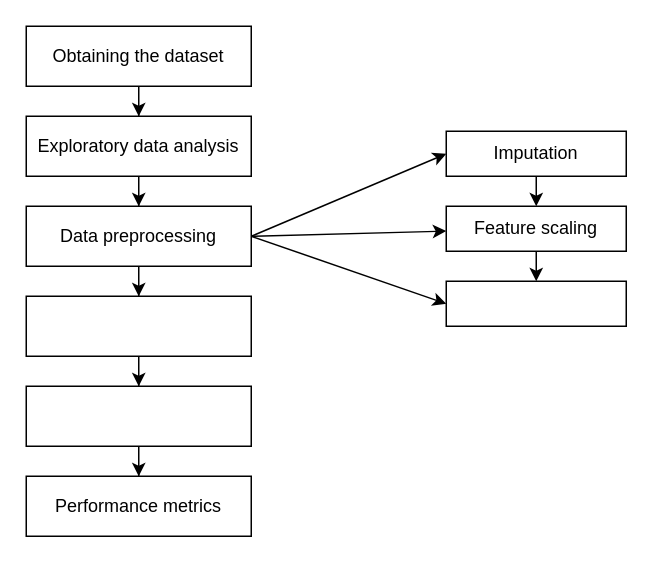
Some shapes in this 653 by 563 pixel diagram are drawn without their labels. The shapes that lost their labels are listed below. From the top down, each one's centre as x and y in pixels, then its label:
At pixel 535 303: "Handling of categorical values".
At pixel 138 325: "Training".
At pixel 138 415: "Testing".
